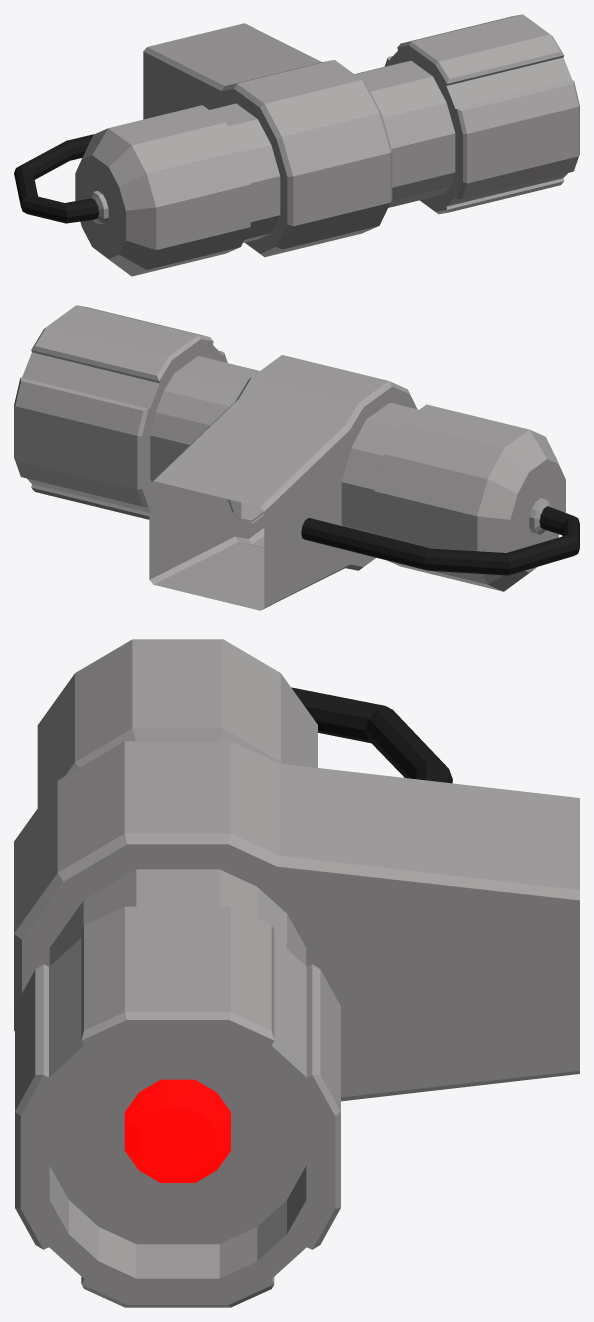
File: DoorLaser_2.fbx
3 views of the same model, one above another, from view 1: azimuth 30°, elevation 25°; view 2: azimuth 150°, elevation 25°; view 3: azimuth 270°, elevation 25° (orthographic). The views are drawn at different scales.
Parts seen in each view (by area): view 1: DoorLaser_2; view 2: DoorLaser_2; view 3: DoorLaser_2.
Part boxes in pixels (x1,y1,x2,y2): DoorLaser_2: (14, 14, 579, 276); DoorLaser_2: (14, 305, 579, 610); DoorLaser_2: (14, 639, 579, 1307).
Size of the model in its own units: 27.11 by 7.99 by 13.79.
